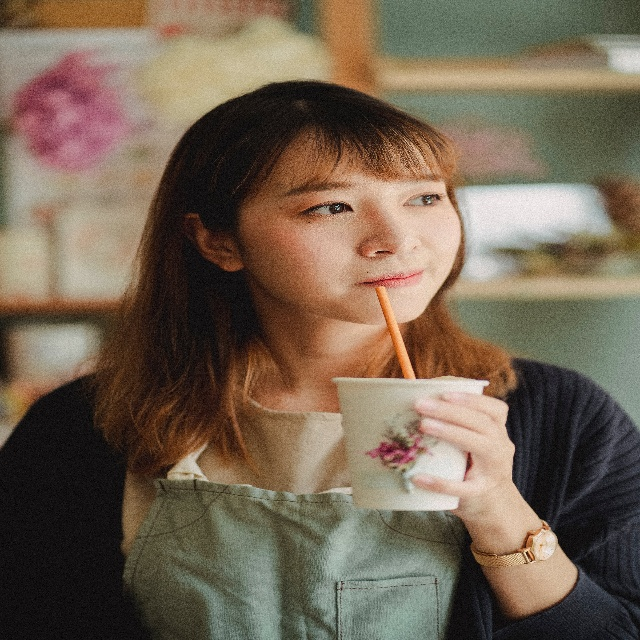Sin_guantes: (409, 388, 512, 524)
